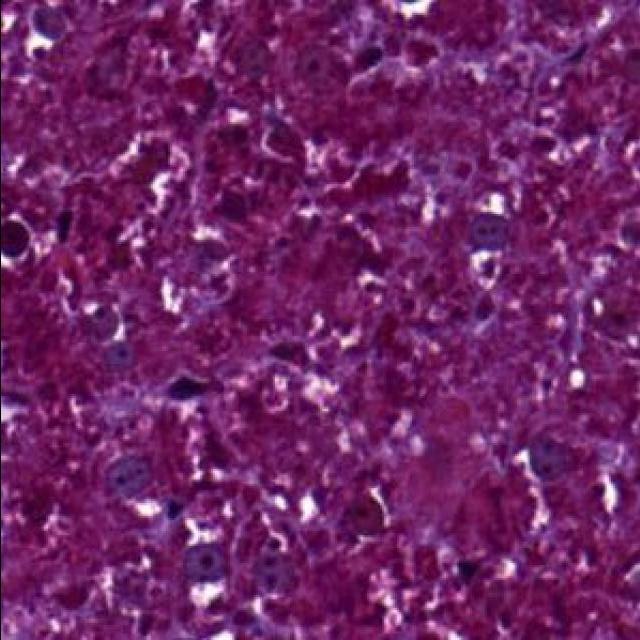inflammation: (338, 485, 391, 539), (526, 438, 583, 481), (105, 456, 149, 499), (184, 545, 224, 582), (469, 214, 506, 250), (0, 220, 28, 258), (268, 342, 308, 368), (165, 376, 207, 400), (450, 560, 476, 580), (55, 210, 71, 242), (279, 344, 284, 350)
